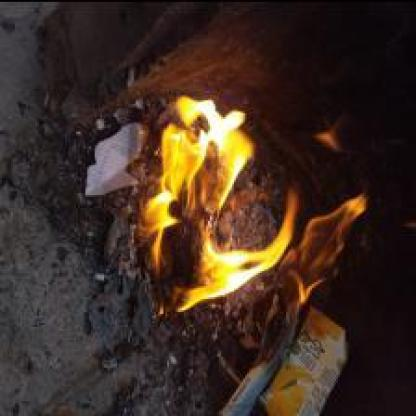Fire: (120, 96, 368, 327)
